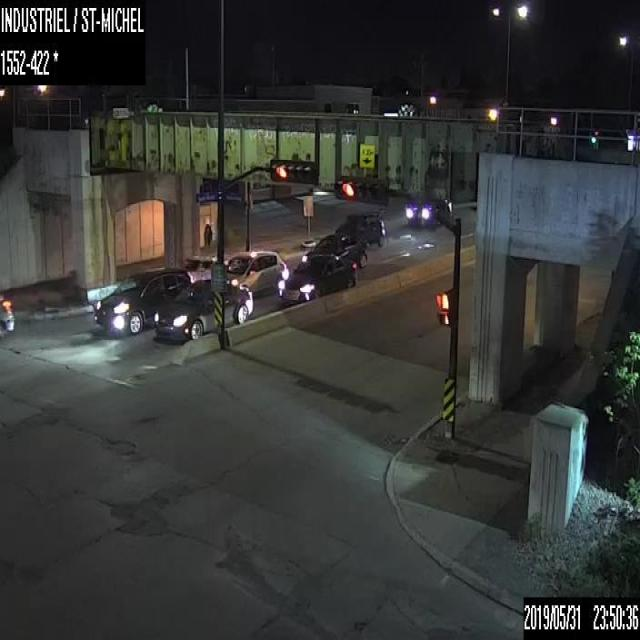vehicle: (92, 266, 194, 342), (154, 279, 252, 342), (277, 255, 356, 304), (222, 251, 287, 296), (300, 232, 366, 268), (333, 211, 385, 246), (404, 198, 451, 226), (0, 293, 14, 339)
